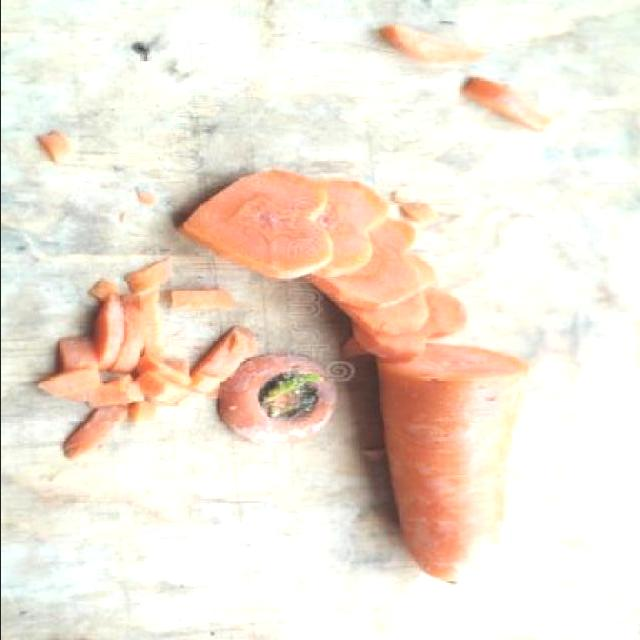carrot: (380, 346, 531, 589)
